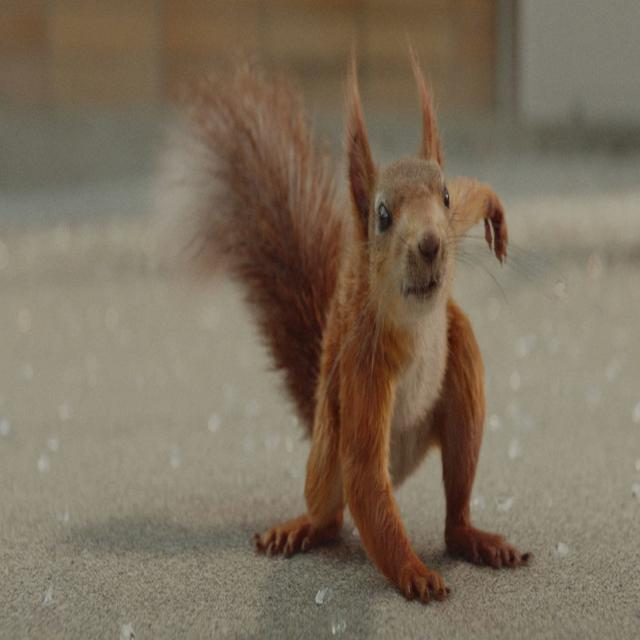squirrel: (176, 55, 533, 602)
